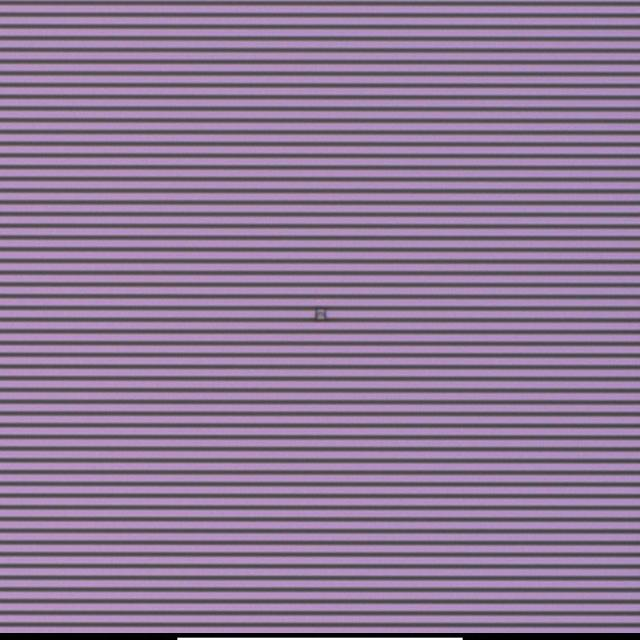03_intrusion: (310, 304, 330, 324)
